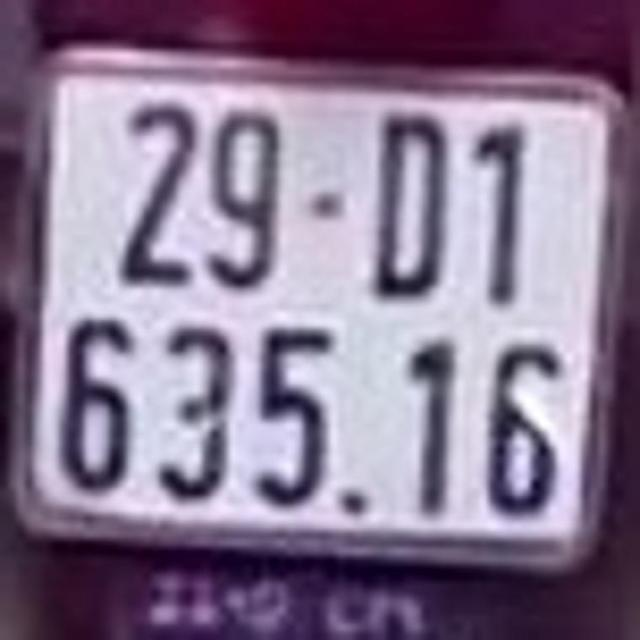1: (469, 112, 530, 307), (405, 331, 456, 518)
2: (116, 94, 196, 288)
3: (158, 316, 232, 502)
5: (256, 320, 332, 509)
6: (487, 336, 565, 518), (60, 309, 134, 493)
9: (207, 102, 281, 291)
D: (369, 104, 452, 302)
